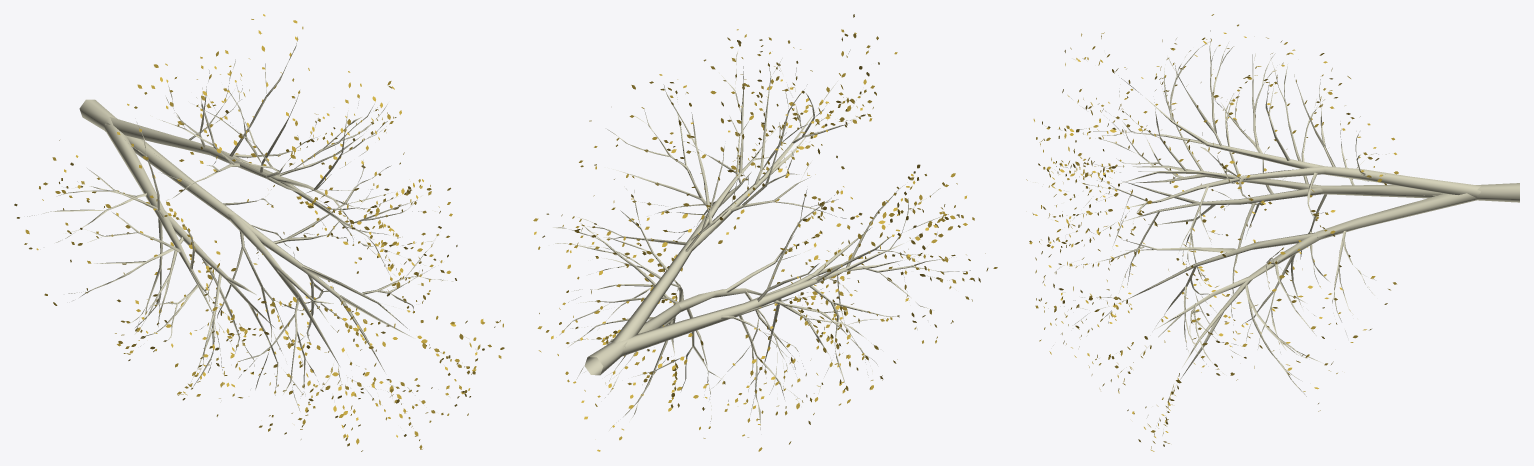
The model's file is birchTreeWithLeaves_medium.glb.
3 renders of one model, left to right at view 1: azimuth 30°, elevation 25°; view 2: azimuth 150°, elevation 25°; view 3: azimuth 270°, elevation 25°, orthographic. The views are drawn at different scales.
Visible parts, largest first — view 1: birchTreeWithLeaves.001; view 2: birchTreeWithLeaves.001; view 3: birchTreeWithLeaves.001.
Boxes of the visible parts, left/top/right/bottom form: birchTreeWithLeaves.001: left=14, top=14, right=504, bottom=451; birchTreeWithLeaves.001: left=533, top=14, right=997, bottom=451; birchTreeWithLeaves.001: left=1026, top=14, right=1519, bottom=451.
Size of the model in its own units: 1.96 by 2 by 2.47.
